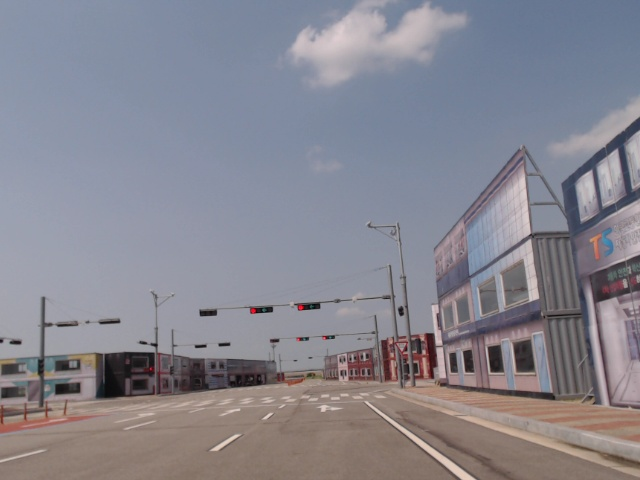left_green_4: (297, 304, 320, 310), (250, 308, 274, 313), (296, 337, 309, 341), (322, 336, 335, 340)
